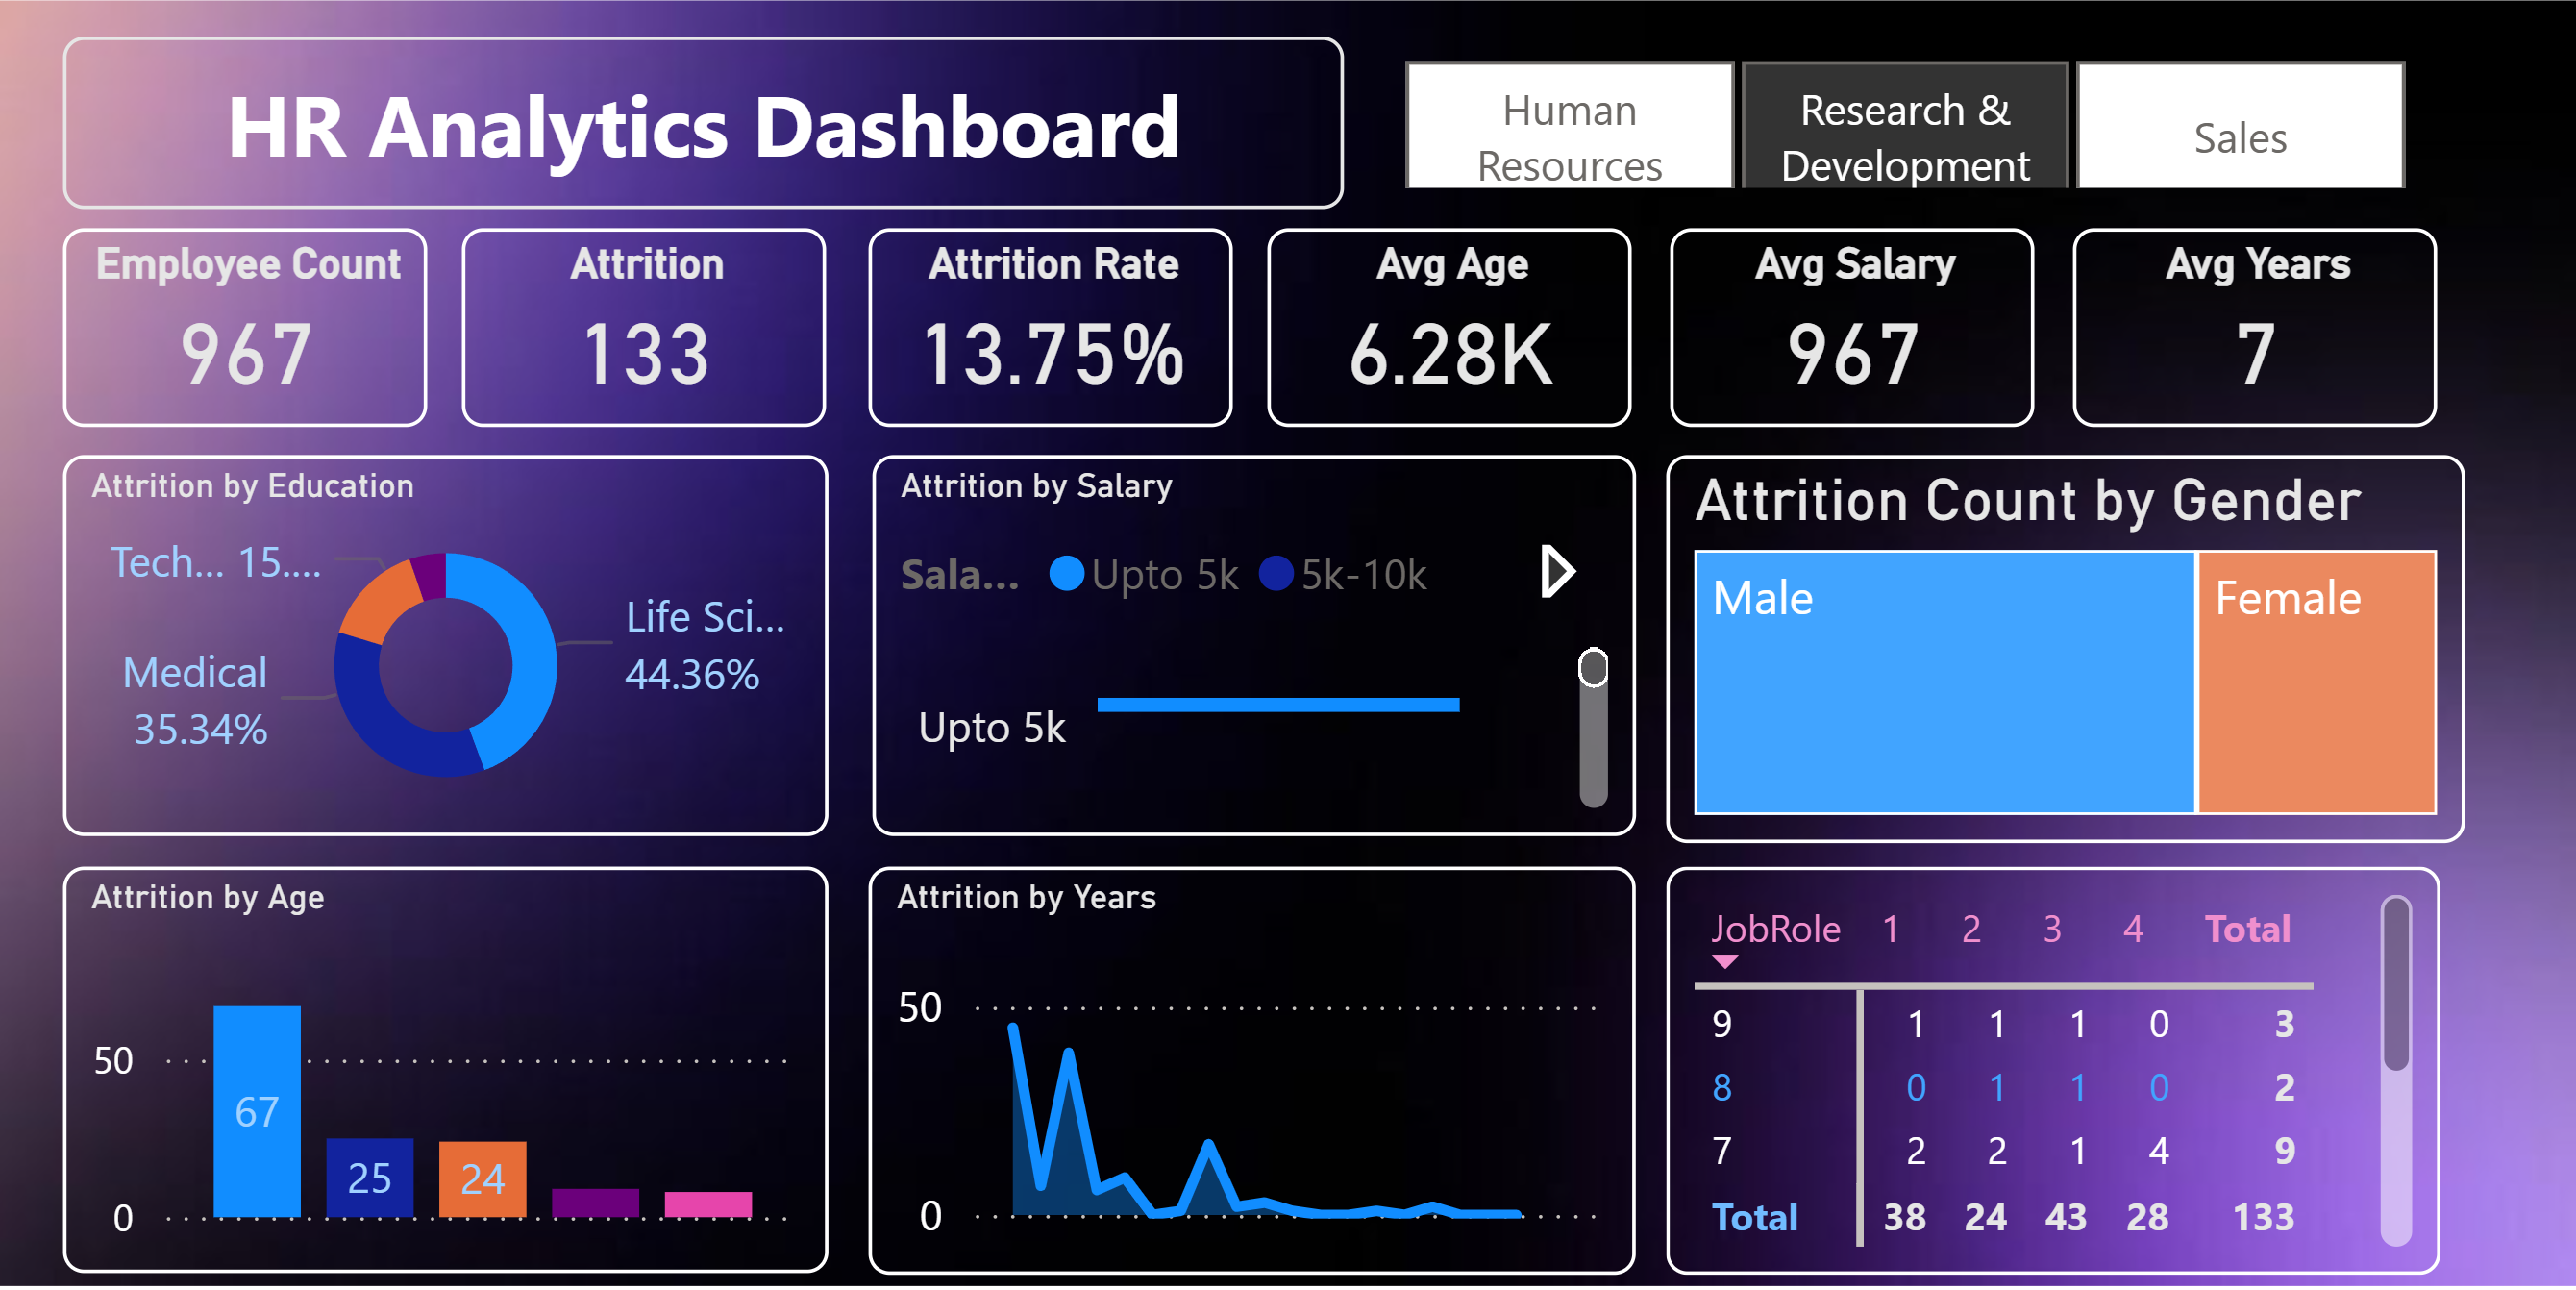

What the dashboard file says about the page in this screenshot:
{"tool":"powerbi","page":{"name":"Page 1","canvas":[1280,720],"ordinal":0},"visuals":[{"type":"card","title":"Employee Count","fields":{"Values":["CountNonNull(HR_Data.EmpID)"]},"box":[290.9,240,103.6,56.4],"z":0},{"type":"card","title":"Attrition","fields":{"Values":["Sum(HR_Data.Attrition Count)"]},"box":[404.5,240,103.6,56.4],"z":1000},{"type":"card","title":"Avg Age","fields":{"Values":["Avg(HR_Data.MonthlyIncome)"]},"box":[633.6,240,103.6,56.4],"z":2000},{"type":"card","title":"Avg Salary","fields":{"Values":["CountNonNull(HR_Data.EmpID)"]},"box":[747.3,240,103.6,56.4],"z":3000},{"type":"card","title":"Avg Years","fields":{"Values":["Avg(HR_Data.YearsAtCompany)"]},"box":[862.7,240,103.6,56.4],"z":4000},{"type":"card","title":"Attrition Rate","fields":{"Values":["HR_Data.Attrition Rate"]},"box":[520,240,103.6,56.4],"z":5000},{"type":"textbox","box":[290.8,185,364.2,49.2],"z":6000},{"type":"slicer","fields":{"Values":["Departments.Department"]},"box":[647,185,334,43],"z":7000},{"type":"donutChart","title":"Attrition by Education","fields":{"Category":["Education.Education"],"Y":["Sum(HR_Data.Attrition Count)"]},"box":[290.6,304.4,217.5,108.1],"z":8000},{"type":"clusteredBarChart","title":"Attrition by Salary","fields":{"Category":["HR_Data.SalarySlab"],"Y":["Sum(HR_Data.Attrition Count)"],"Series":["HR_Data.SalarySlab"]},"box":[521,304,217,108],"z":9000},{"type":"columnChart","title":"Attrition by Age","fields":{"Category":["HR_Data.AgeGroup"],"Y":["Sum(HR_Data.Attrition Count)"],"Series":["HR_Data.AgeGroup"]},"box":[290.6,420.6,217.5,115.6],"z":10000},{"type":"areaChart","title":"Attrition by Years","fields":{"Category":["HR_Data.YearsInCurrentRole"],"Y":["Sum(HR_Data.Attrition Count)"]},"box":[520,421,218,116],"z":11000},{"type":"pivotTable","fields":{"Rows":["HR_Data.JobRole"],"Columns":["HR_Data.JobSatisfaction"],"Values":["Sum(HR_Data.Attrition Count)"]},"box":[747,421,220,116],"z":12000},{"type":"treemap","title":"Attrition Count by Gender","fields":{"Values":["Sum(HR_Data.Attrition Count)"],"Group":["HR_Data.Gender"]},"box":[747,304,227,110],"z":13000}]}

Visuals, with their boxes on the page's 1280x720 design canvas (x1, y1, x2, y2). These are canvas units, not pixel positions in the 2576x1290 screenshot, which may show the page scaled, cropped or inside an application window:
"Employee Count" card: bbox(291, 240, 394, 296)
"Attrition" card: bbox(404, 240, 508, 296)
"Avg Age" card: bbox(634, 240, 737, 296)
"Avg Salary" card: bbox(747, 240, 851, 296)
"Avg Years" card: bbox(863, 240, 966, 296)
"Attrition Rate" card: bbox(520, 240, 624, 296)
textbox: bbox(291, 185, 655, 234)
slicer - Departments.Department: bbox(647, 185, 981, 228)
"Attrition by Education" donutChart: bbox(291, 304, 508, 412)
"Attrition by Salary" clusteredBarChart: bbox(521, 304, 738, 412)
"Attrition by Age" columnChart: bbox(291, 421, 508, 536)
"Attrition by Years" areaChart: bbox(520, 421, 738, 537)
pivotTable - HR_Data.JobRole x HR_Data.JobSatisfaction: bbox(747, 421, 967, 537)
"Attrition Count by Gender" treemap: bbox(747, 304, 974, 414)
